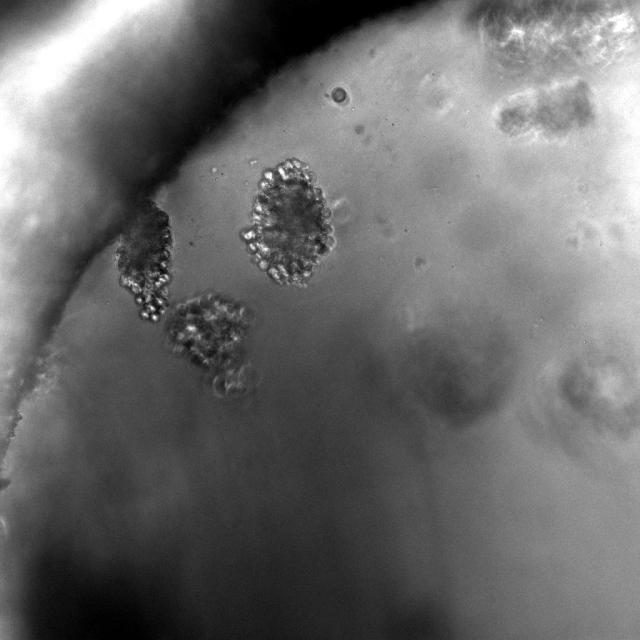organoid: (481, 0, 639, 137), (240, 158, 334, 286), (165, 293, 254, 395), (116, 200, 172, 323), (331, 87, 346, 103)
